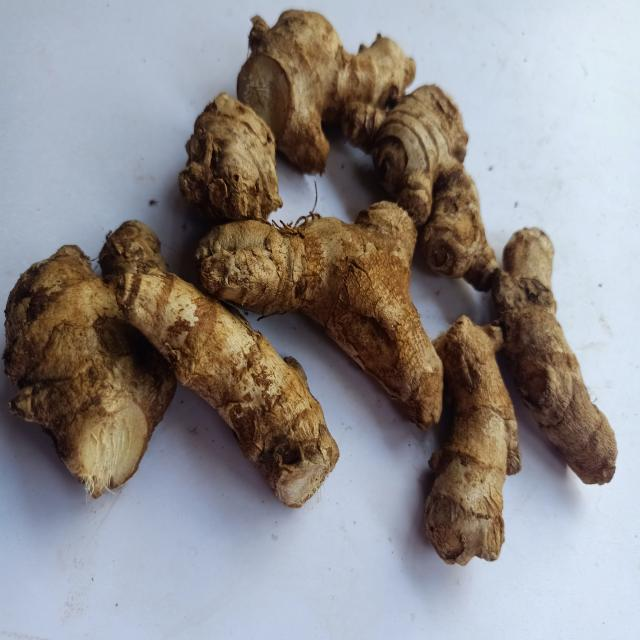Ginger: (196, 201, 443, 429), (116, 269, 339, 508), (3, 245, 176, 498), (492, 228, 619, 485), (343, 84, 499, 290), (237, 8, 416, 173), (424, 315, 522, 566), (178, 92, 283, 219), (98, 220, 167, 285)
